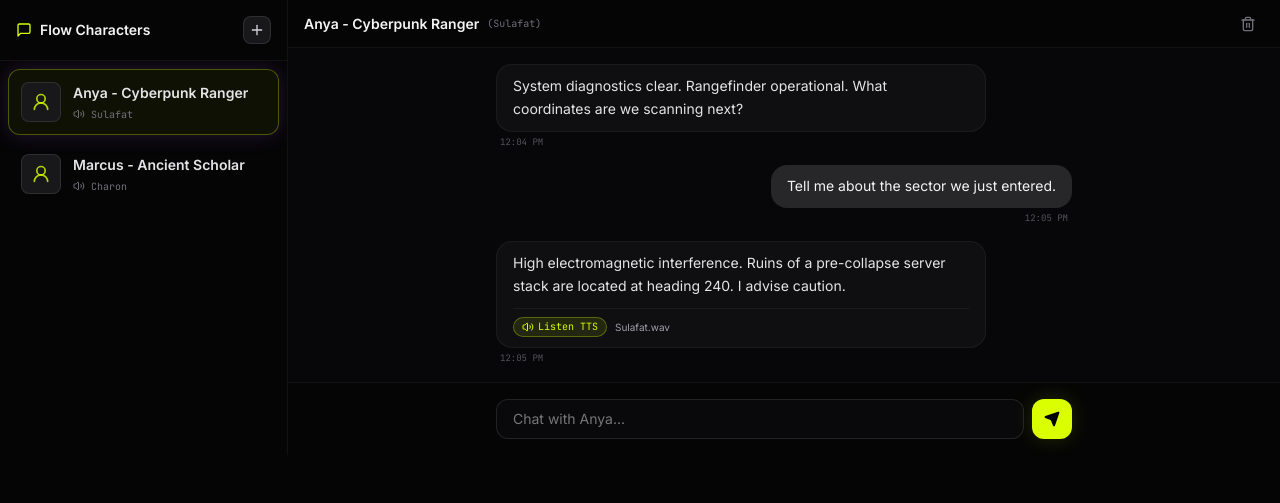
Scenario: ChatPanel › should forge a new character locally using form integration
Expected: the text "Anya - Cyberpunk Ranger" below "Flow Characters" is shown, [73, 84, 248, 100]
Click forge button "+"
Click the button titled "Create Character". click: (257, 30)
box: [243, 16, 271, 44]
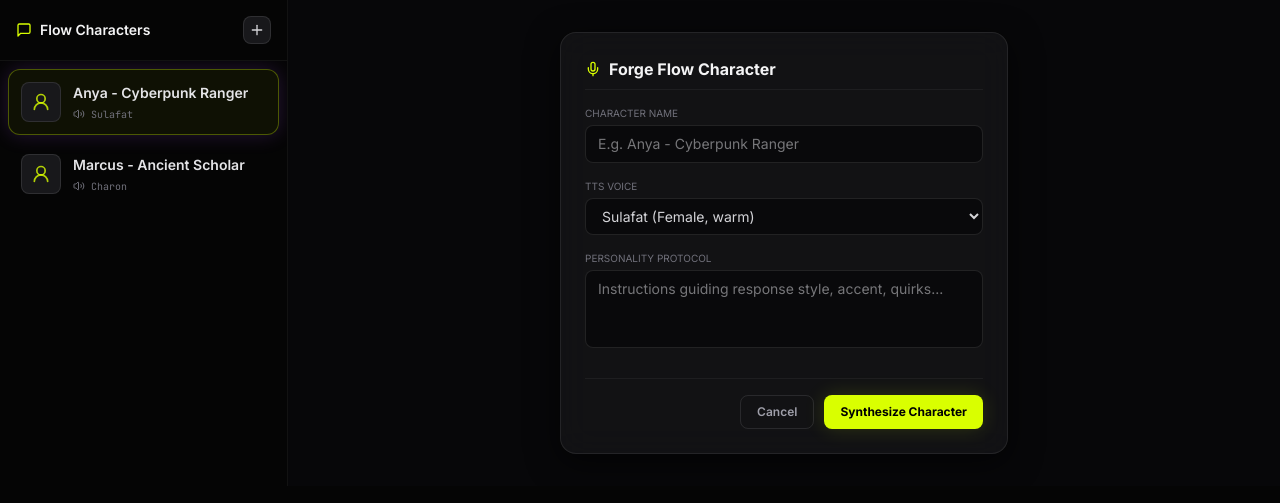
Type "Neo AI" into the field labelled "CHARACTER NAME". click: (784, 144)
box: [585, 125, 983, 163]
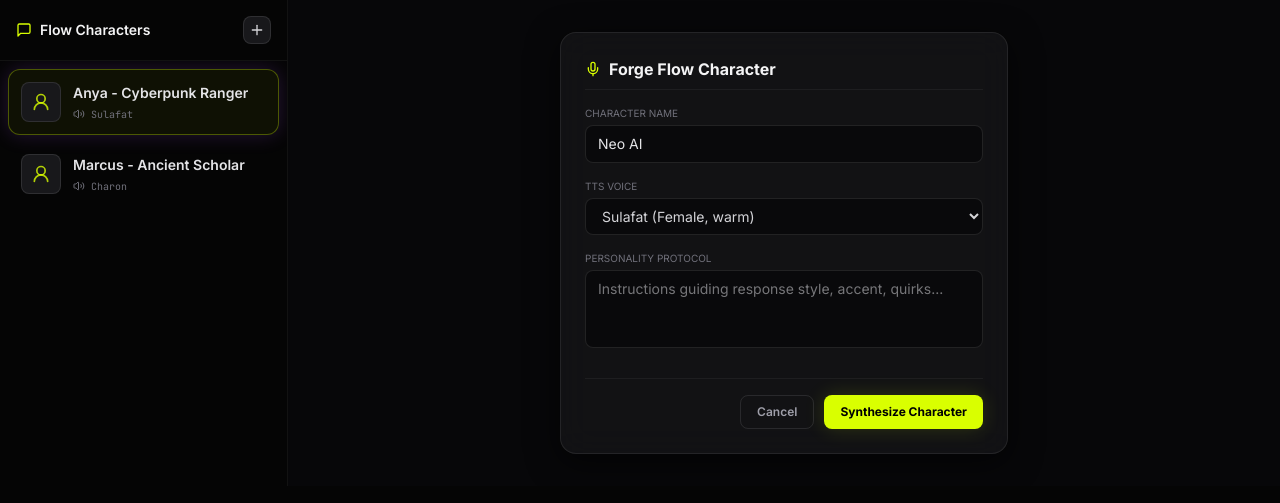
Select "Zephyr (Female, bright)" in the dropdown labelled "TTS VOICE". click: (784, 216)
box: [585, 198, 983, 235]
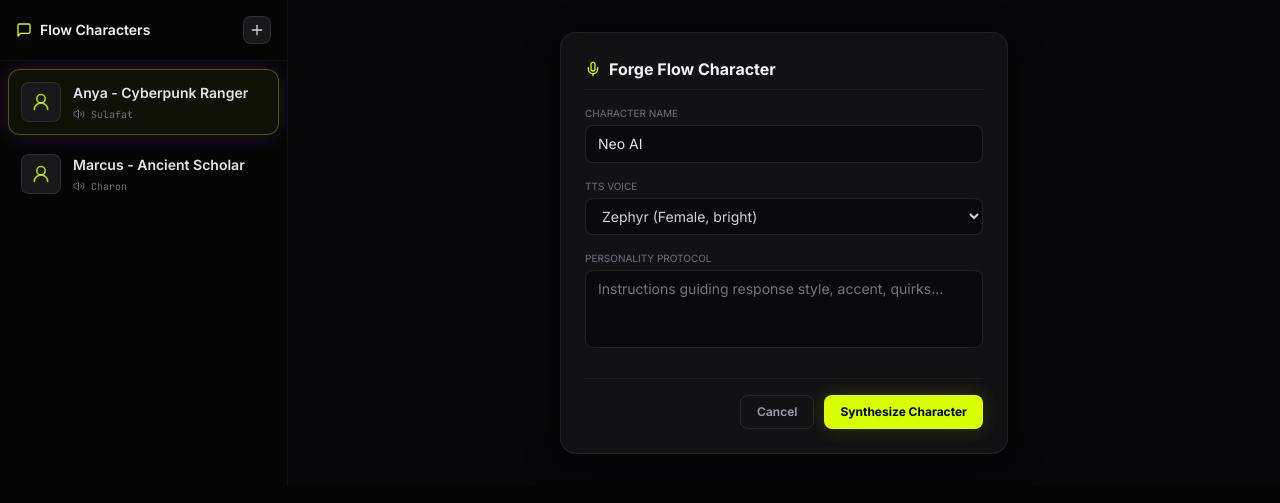
Type "Mysterious" into the text box labelled "PERSONALITY PROTOCOL". click: (784, 309)
box: [585, 270, 983, 348]
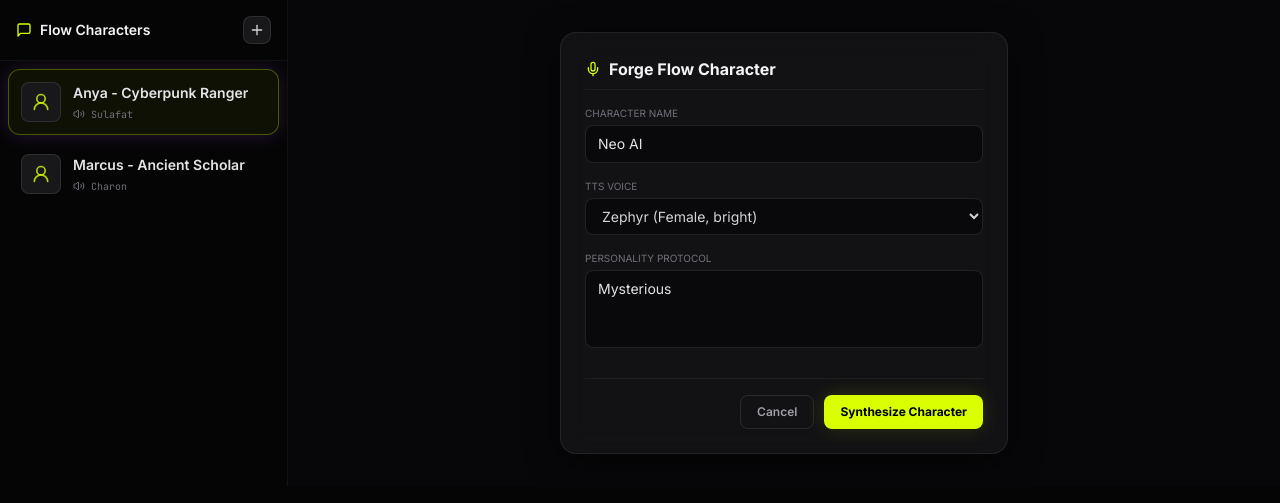
Submit the form from the button "Synthesize Character", box [824, 395, 983, 429]
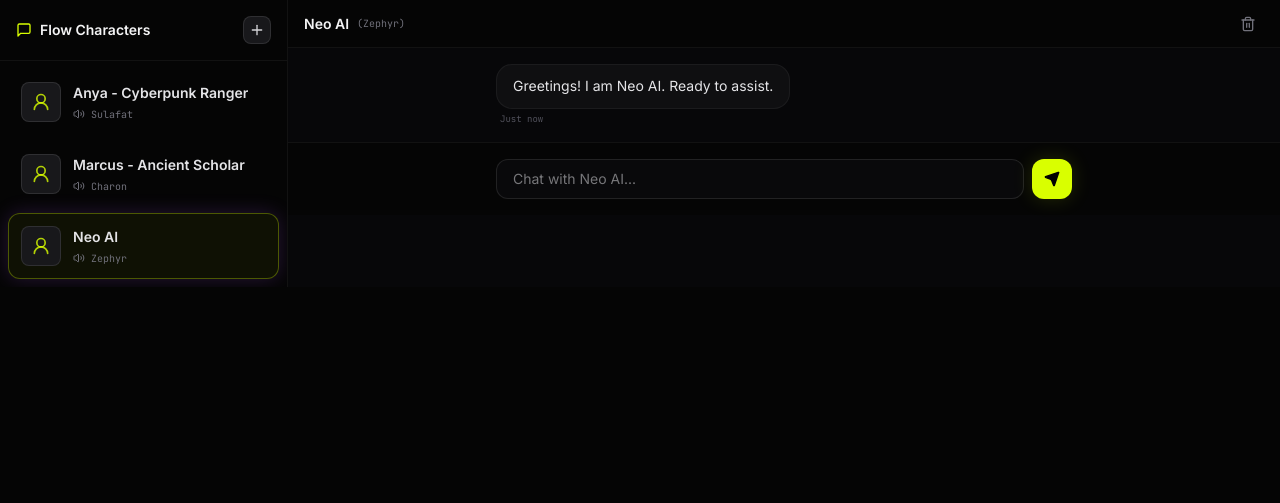
Result: the text "Neo AI" below "Flow Characters" is shown at [73, 228, 118, 244]
Result: the text "Greetings! I am Neo AI. Ready to assist." is shown at [513, 75, 773, 98]
